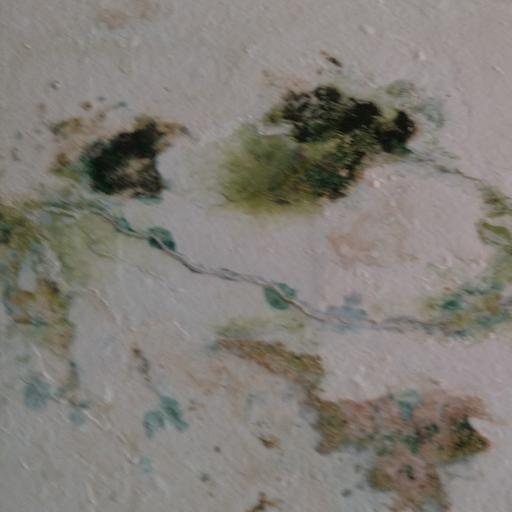algae: (7, 81, 512, 512)
